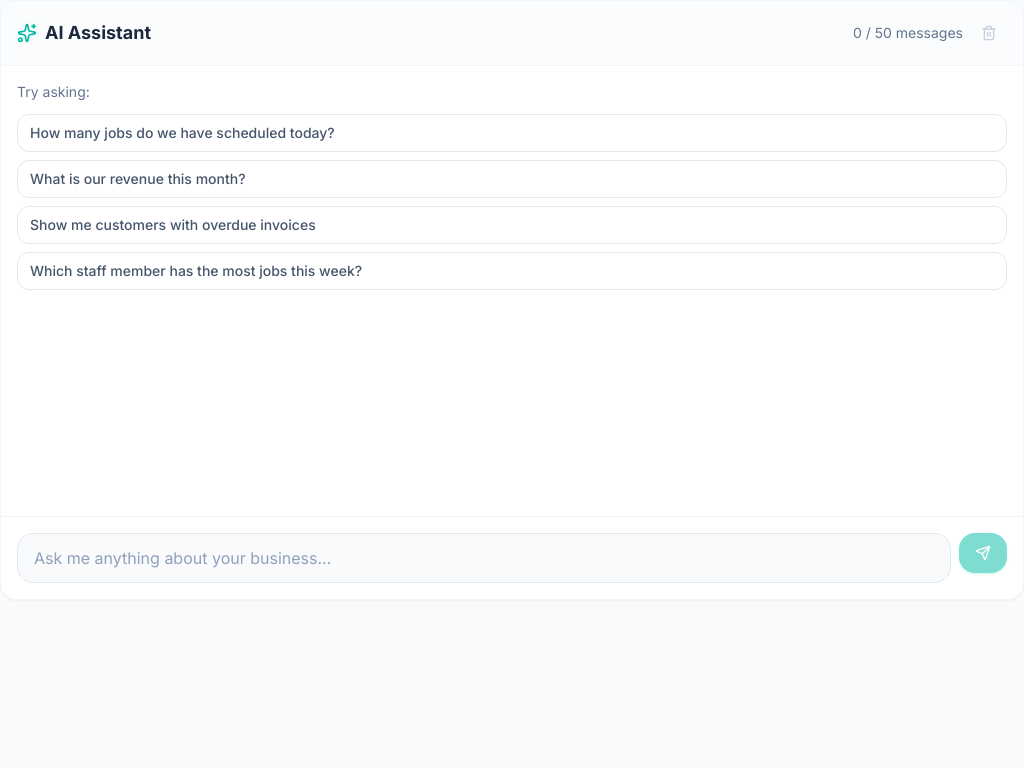
Test: AIQueryChat › displays message count
Check: the text with test id "message-count" reads "0 / 50 messages", box [853, 23, 963, 43]
Note: Send a message (adds 2 messages: user + assistant)
Type "Test" into the field with test id "ai-chat-input".
click(484, 558); type("Test")  # box [17, 533, 951, 583]
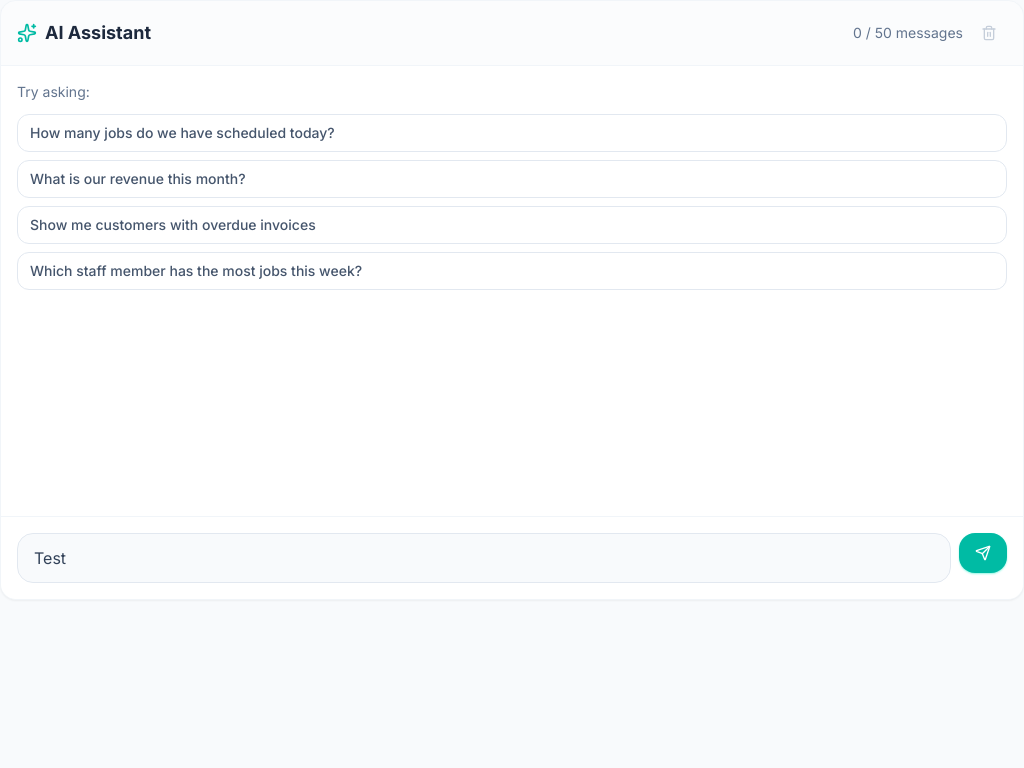
Click the button with test id "ai-send-btn".
click(983, 553)  # box [959, 533, 1007, 573]
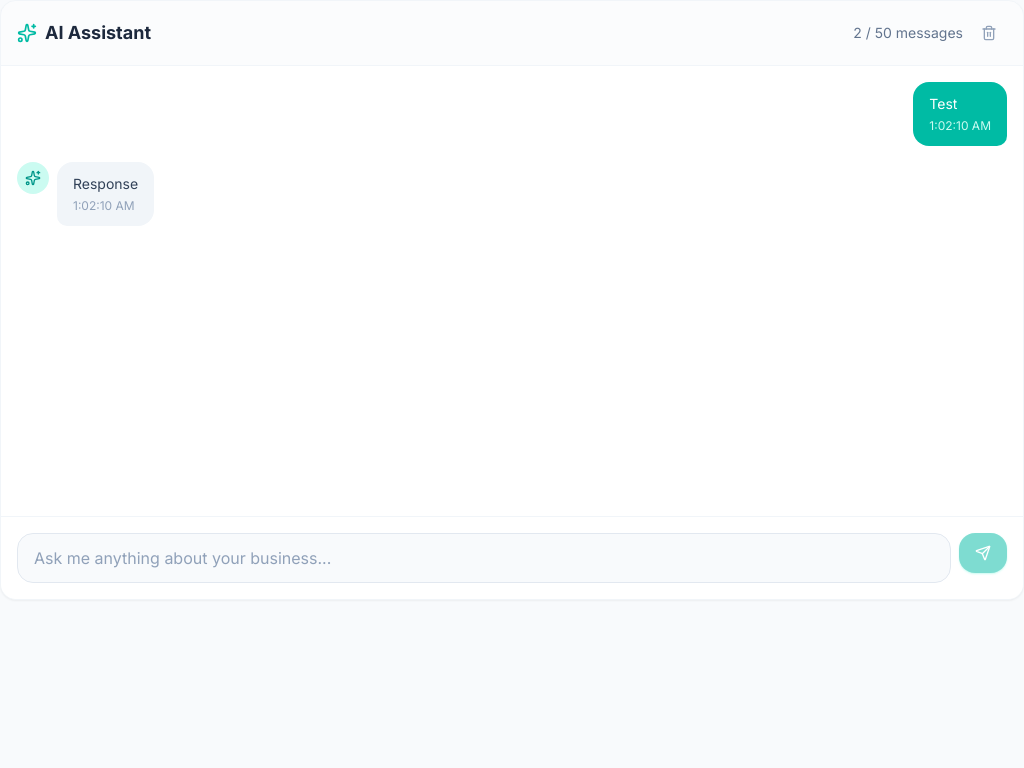
Check: the text with test id "message-count" reads "2 / 50 messages", box [853, 23, 963, 43]
